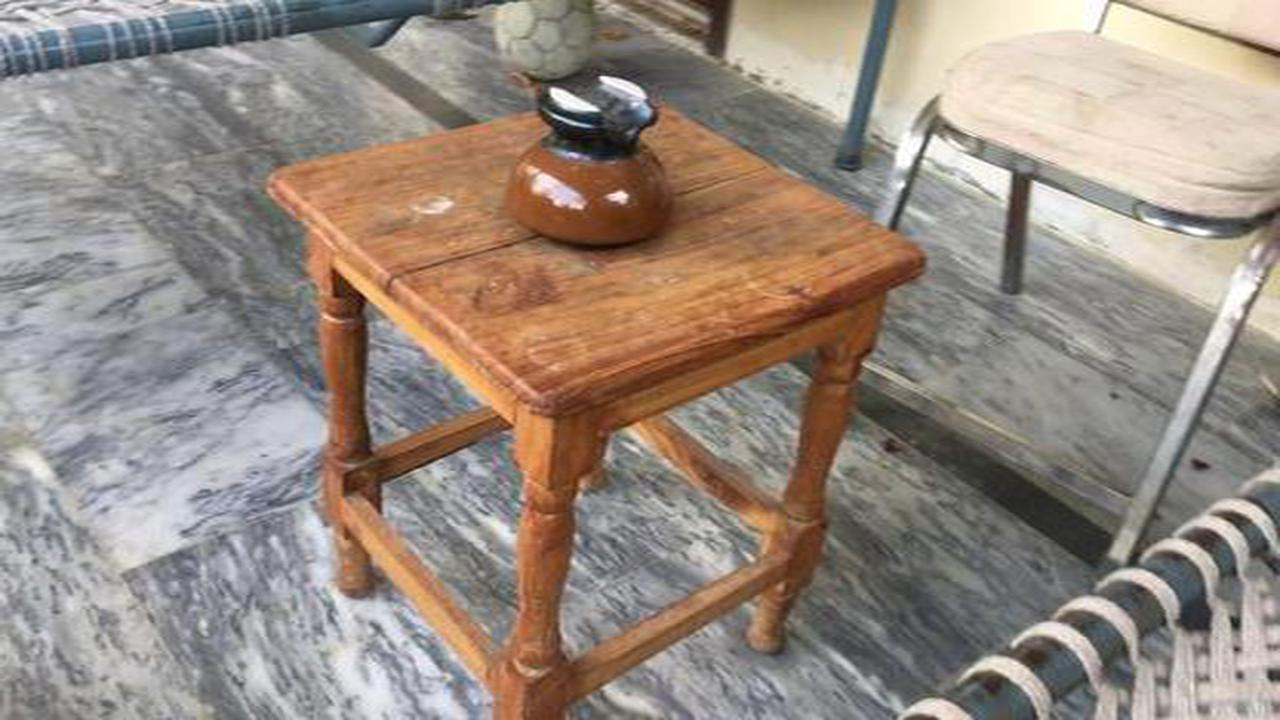insulator_pin: (496, 56, 690, 257)
